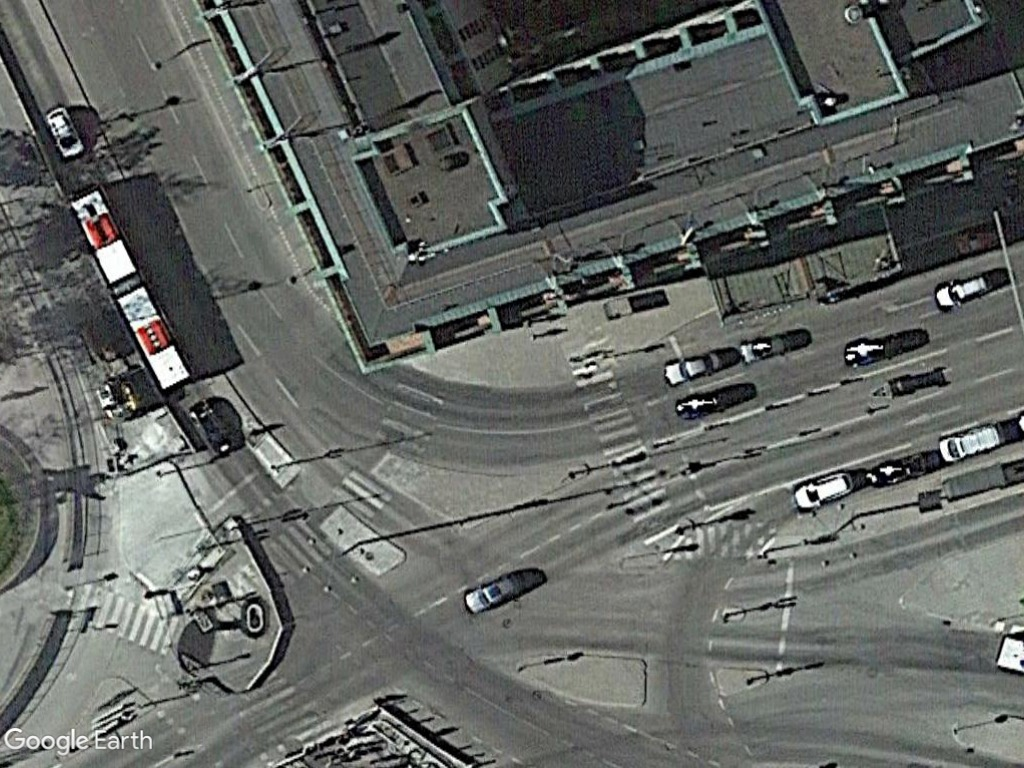bus: (103, 280, 197, 392), (65, 184, 143, 293)
car: (929, 416, 1009, 467), (456, 567, 527, 623), (785, 464, 860, 514), (656, 343, 731, 392), (38, 100, 87, 163)
